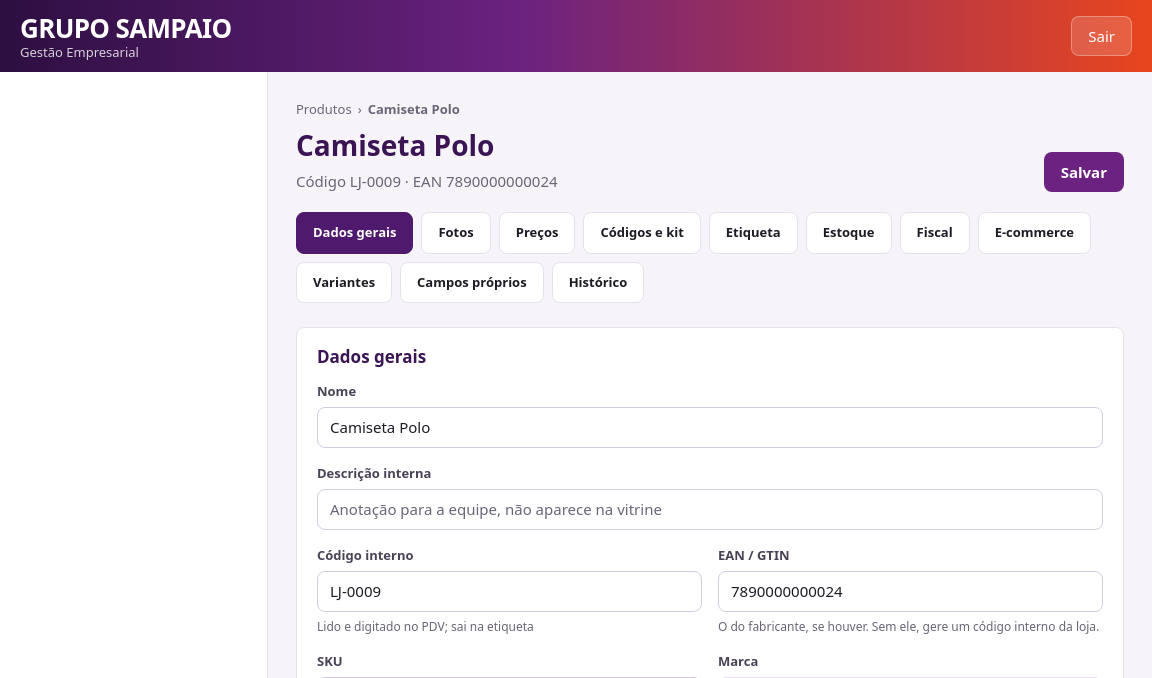
Test case: trocar o EAN principal pergunta antes (A-produto-08) › Cancelar não grava; confirmar grava e avisa que o antigo continua valendo
Check: the field showing "Camiseta Polo" is shown, box left=317, top=407, right=1103, bottom=448
Replace the text in the field labelled "EAN / GTIN" with "7891000100103" at (910, 591), box left=718, top=571, right=1103, bottom=612
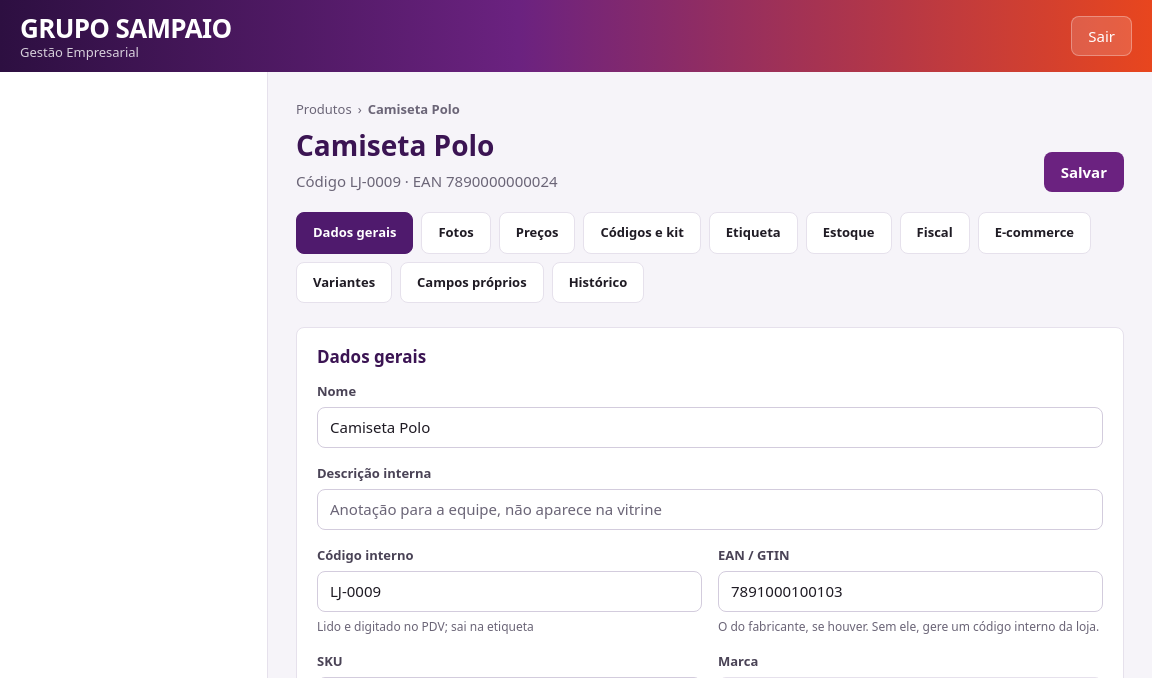
Click the button "Salvar" at (1084, 172), box left=1044, top=152, right=1124, bottom=192
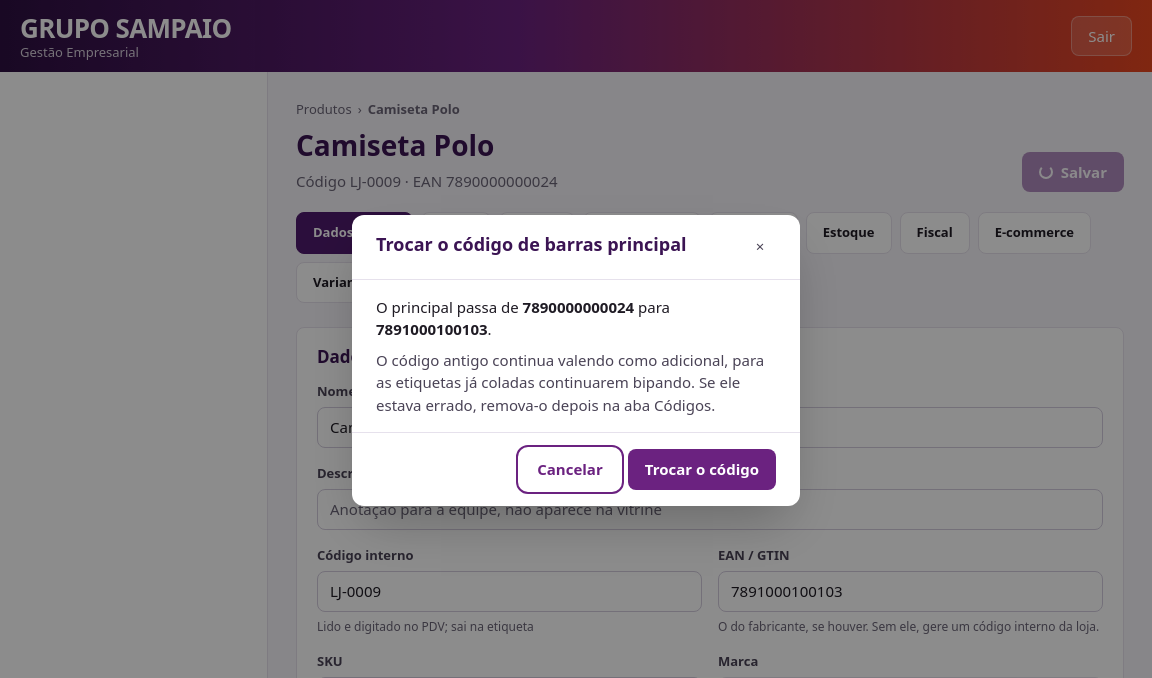
Check: the dialog shows "continua valendo como adicional", box left=376, top=350, right=764, bottom=414
Click the button "Cancelar" at (570, 469), box left=520, top=449, right=620, bottom=490
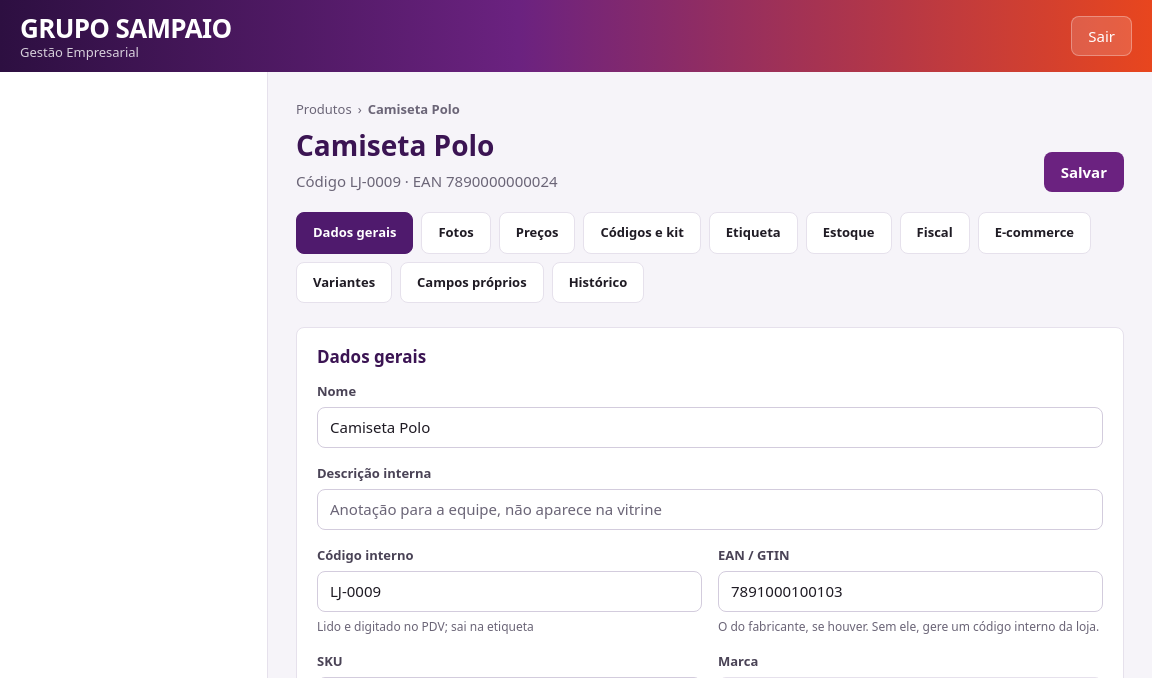
Check: the dialog is gone
Click the button "Salvar" at (1084, 172), box left=1044, top=152, right=1124, bottom=192
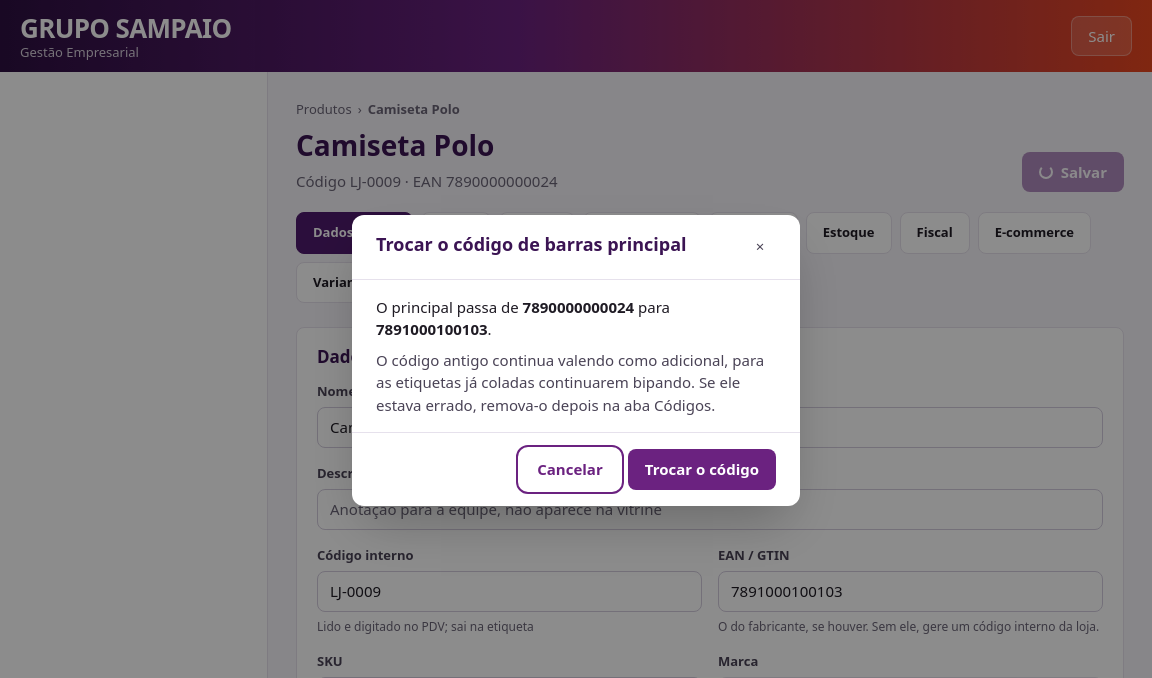
Click the button "Trocar o código" at (702, 469), box left=628, top=449, right=776, bottom=490
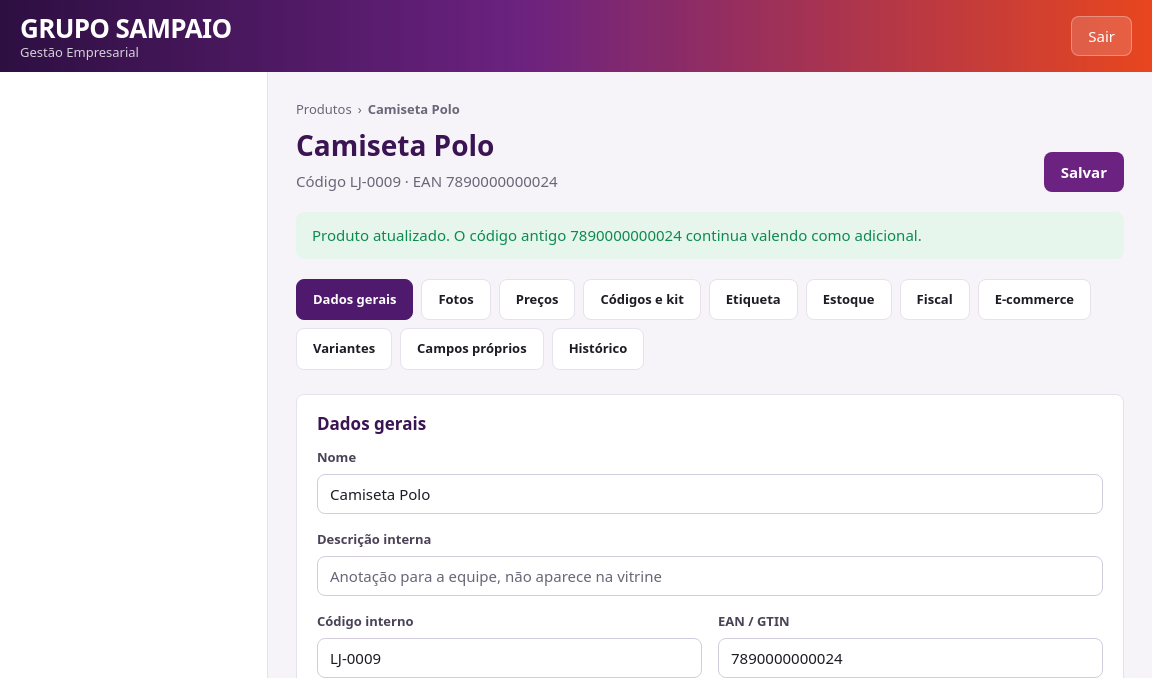
Check: the text "código antigo 7890000000024 continua valendo" is shown, box left=312, top=225, right=922, bottom=245
